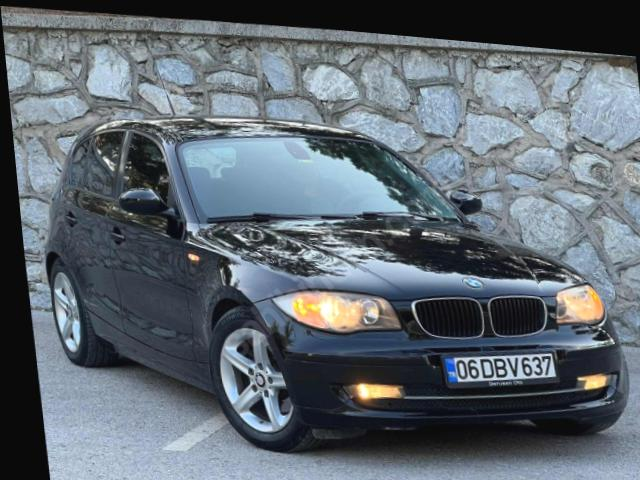plaka: (445, 353, 556, 382)
